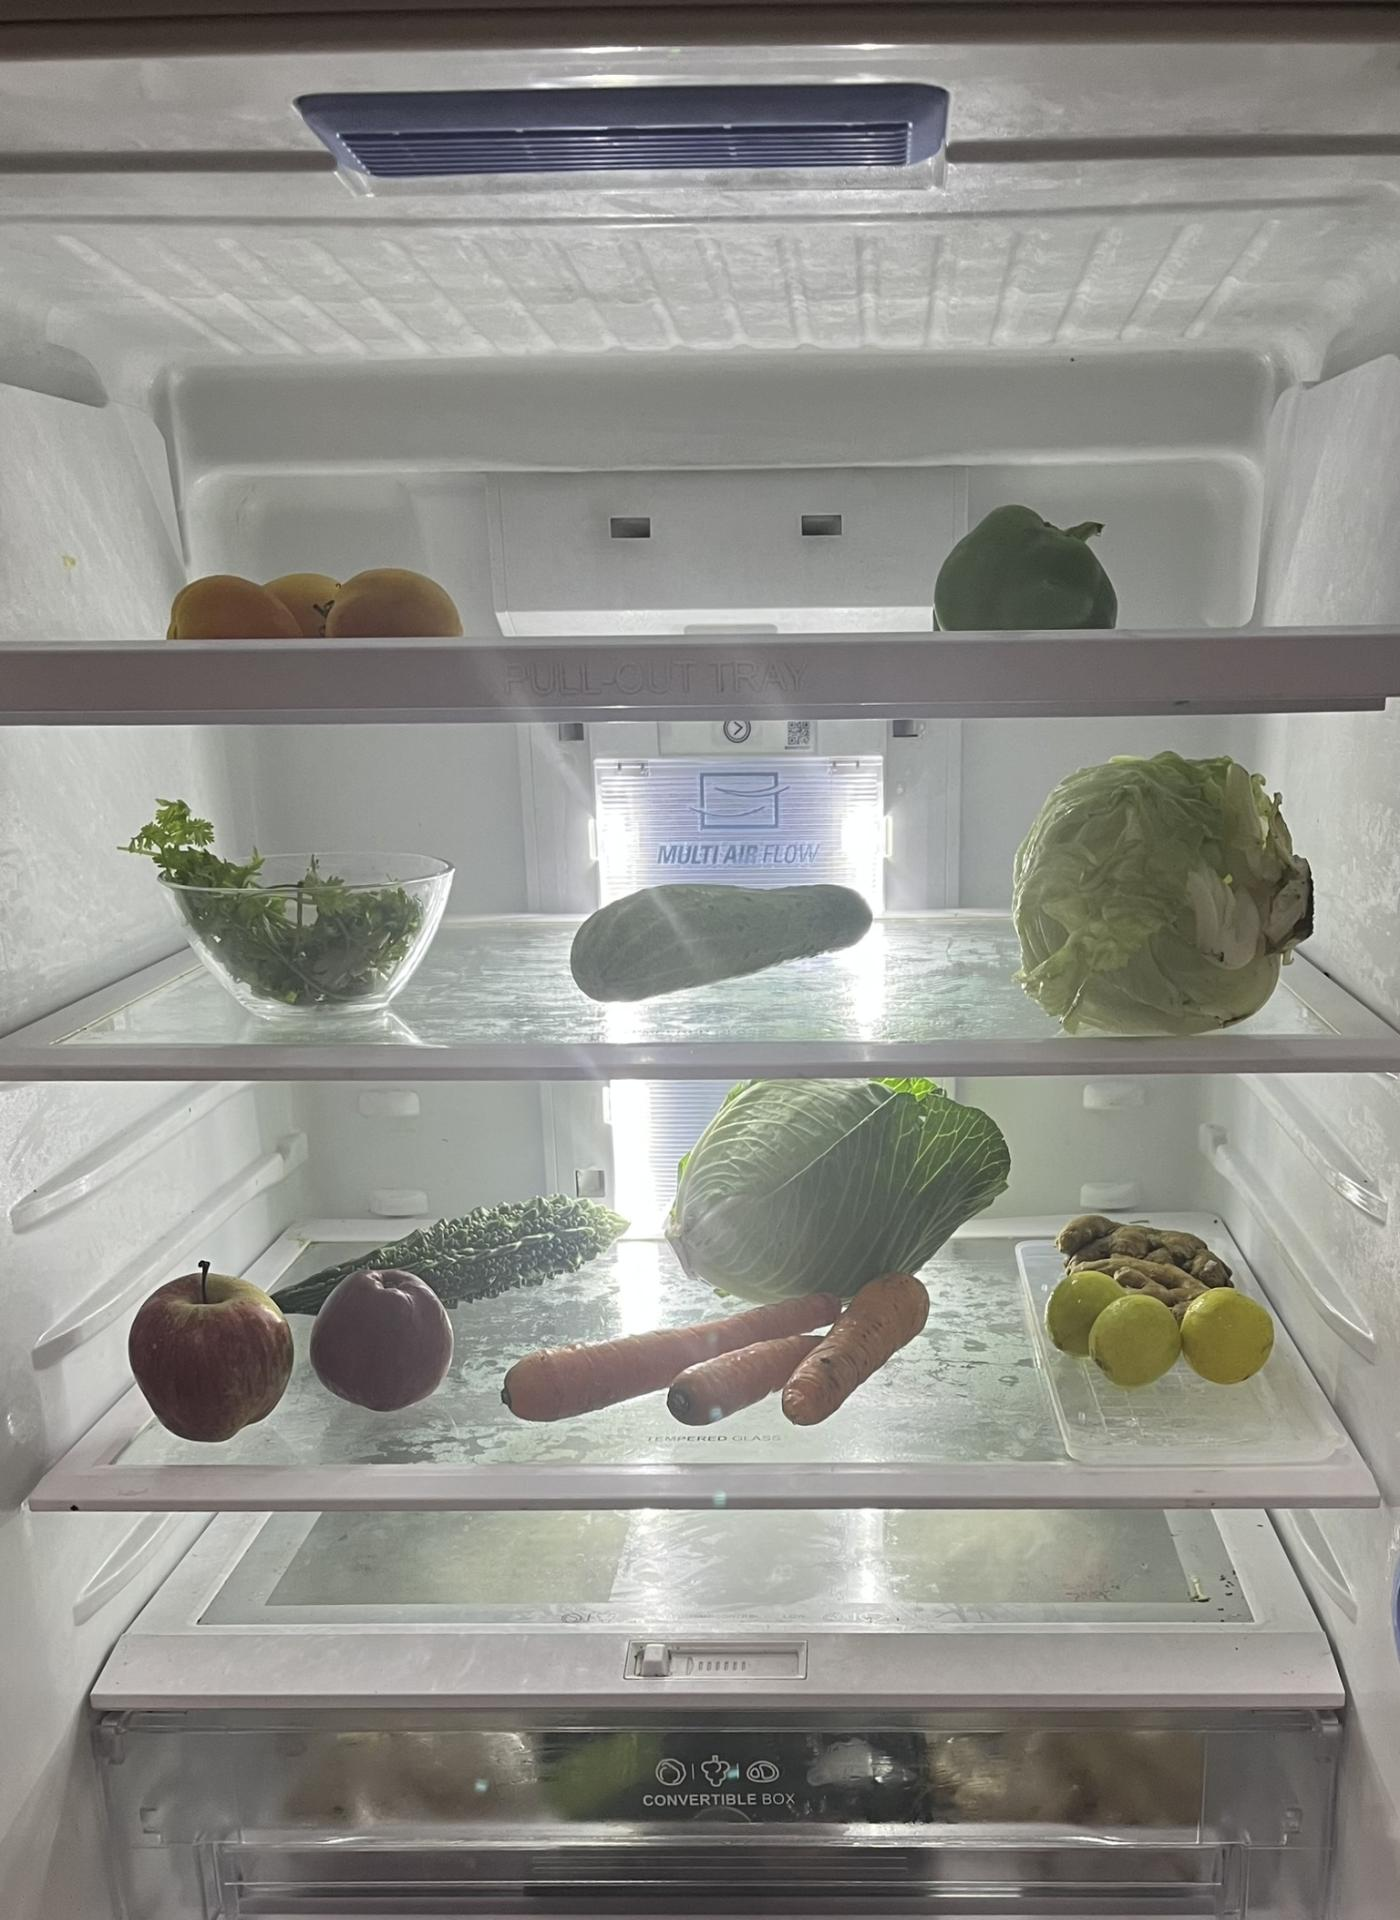apple: (148, 1248, 435, 1456)
capsicum: (932, 504, 1118, 634)
carrots: (502, 1300, 974, 1431)
coriander: (170, 799, 432, 1003)
cucumber: (576, 874, 866, 1006)
ginger: (1054, 1206, 1243, 1289)
lemon: (1059, 1276, 1273, 1371)
lettuce: (684, 1088, 1006, 1300)
tomato: (165, 568, 459, 640)
